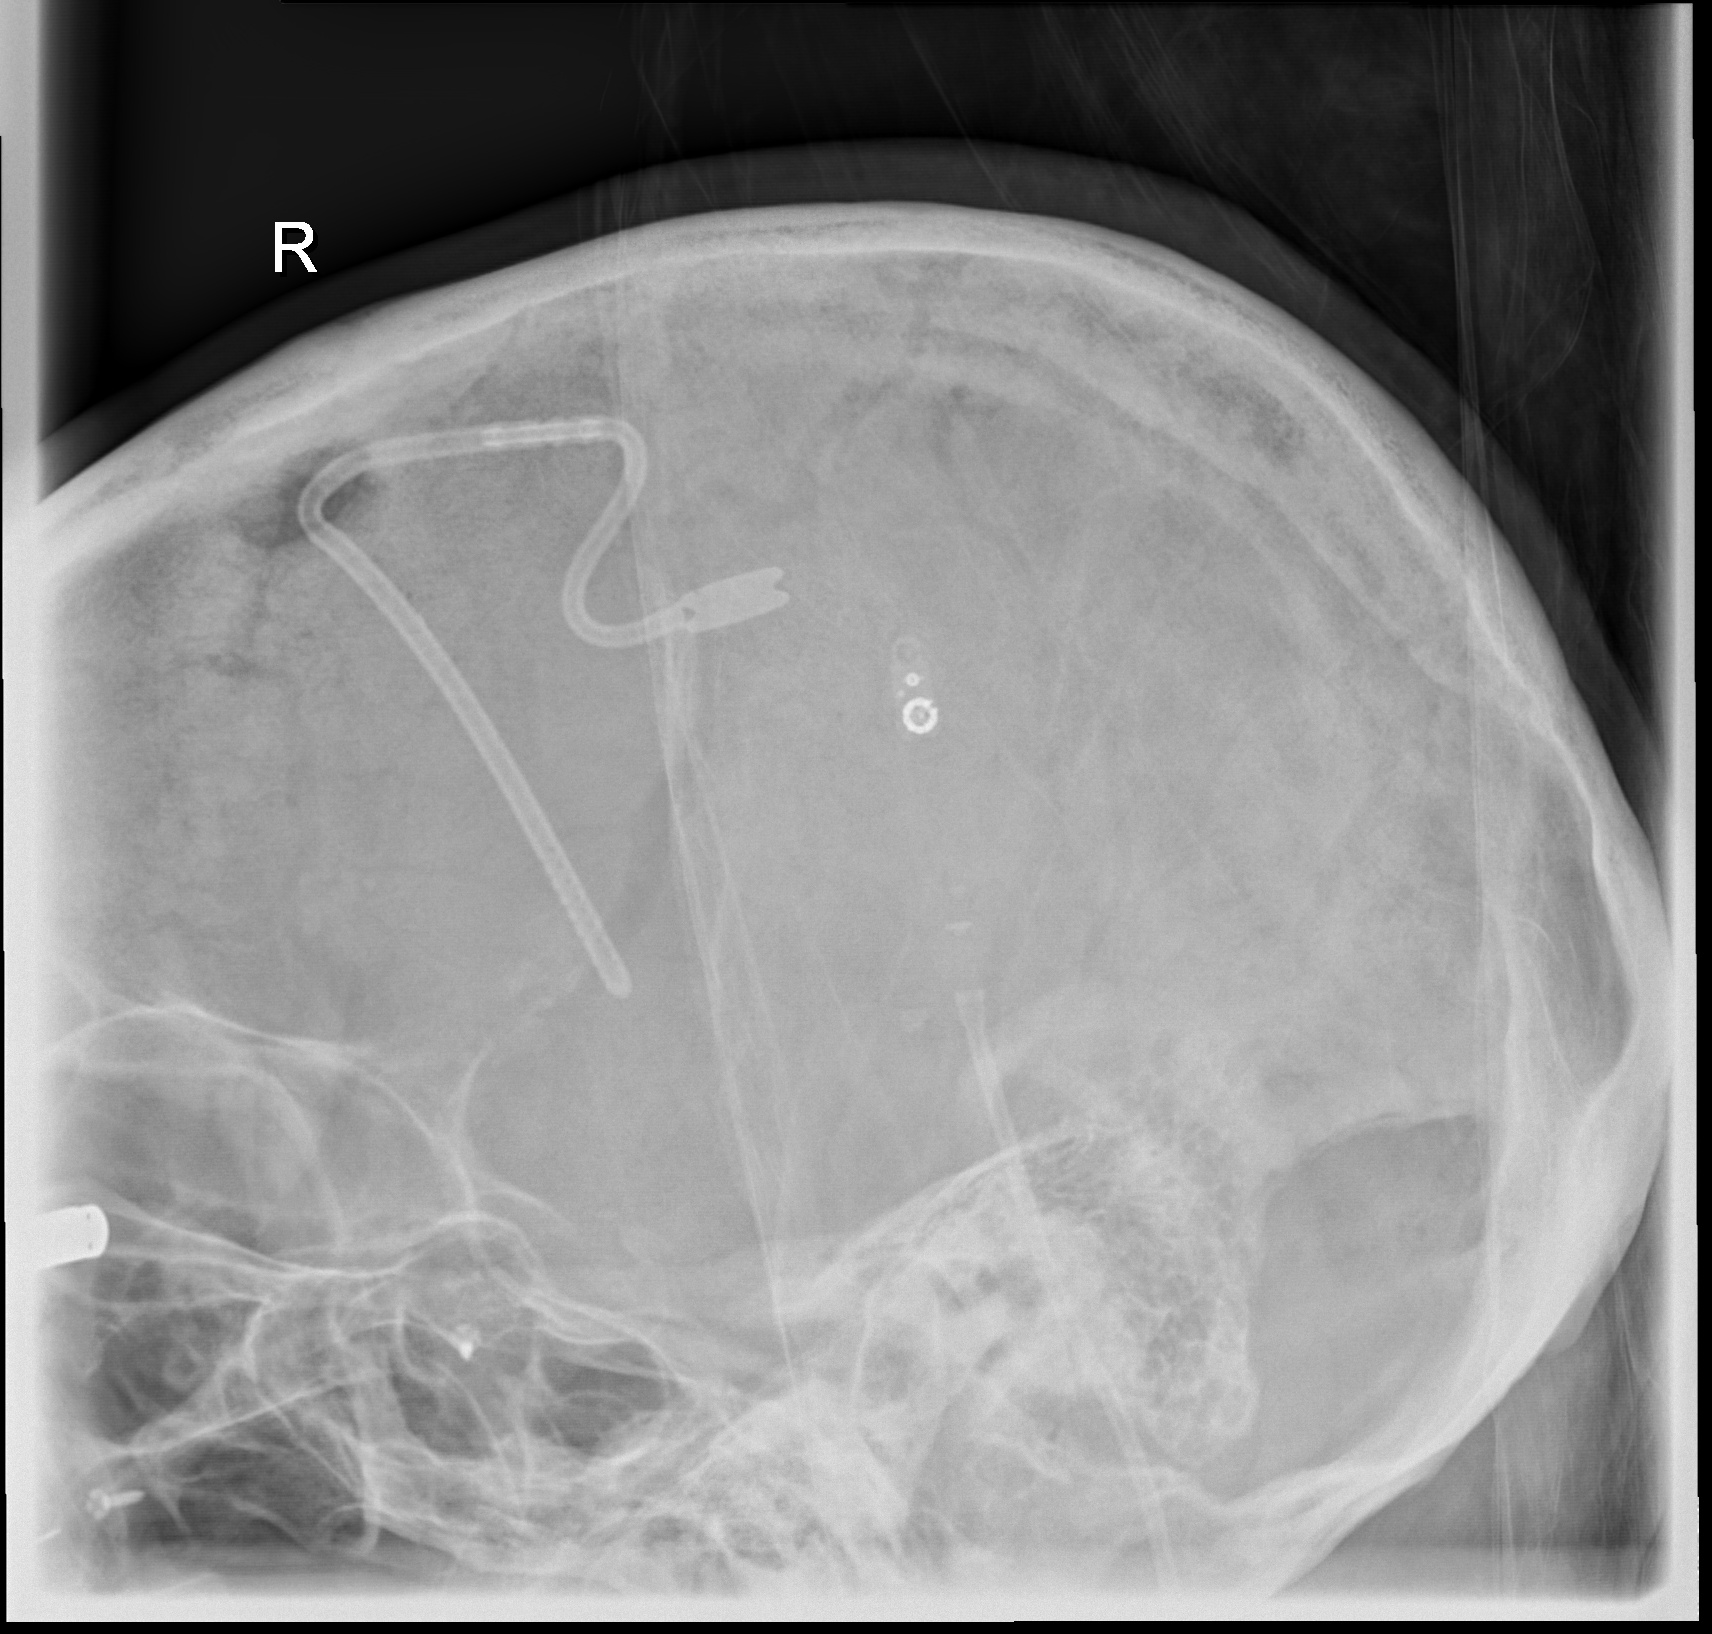Codman Hakim: (887, 633, 945, 760)
